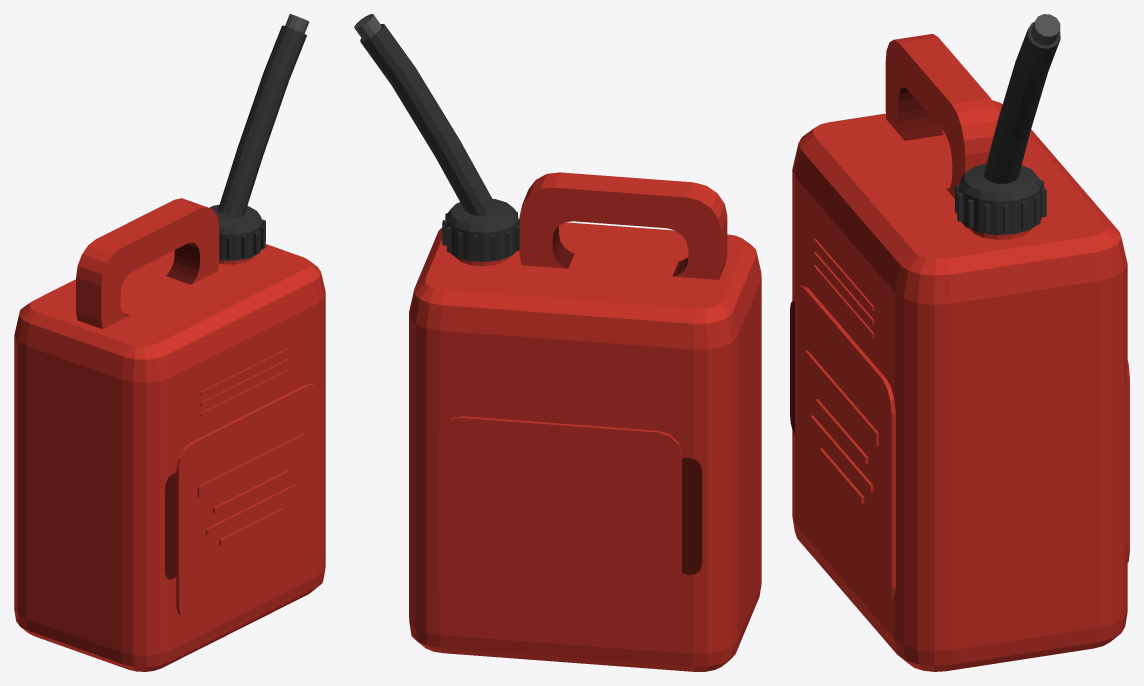
Rendered from item-jerry-can.glb.
3 views of the same model, side by side, from view 1: azimuth 30°, elevation 25°; view 2: azimuth 150°, elevation 25°; view 3: azimuth 270°, elevation 25° (orthographic). The views are drawn at different scales.
Parts seen in each view (by area): view 1: jerryCan; view 2: jerryCan; view 3: jerryCan.
Boxes of the visible parts, left/top/right/bottom form: jerryCan: left=14, top=14, right=325, bottom=671; jerryCan: left=354, top=14, right=761, bottom=671; jerryCan: left=790, top=14, right=1129, bottom=671.
Size of the model in its own units: 0.3752 by 0.6064 by 0.2773.
